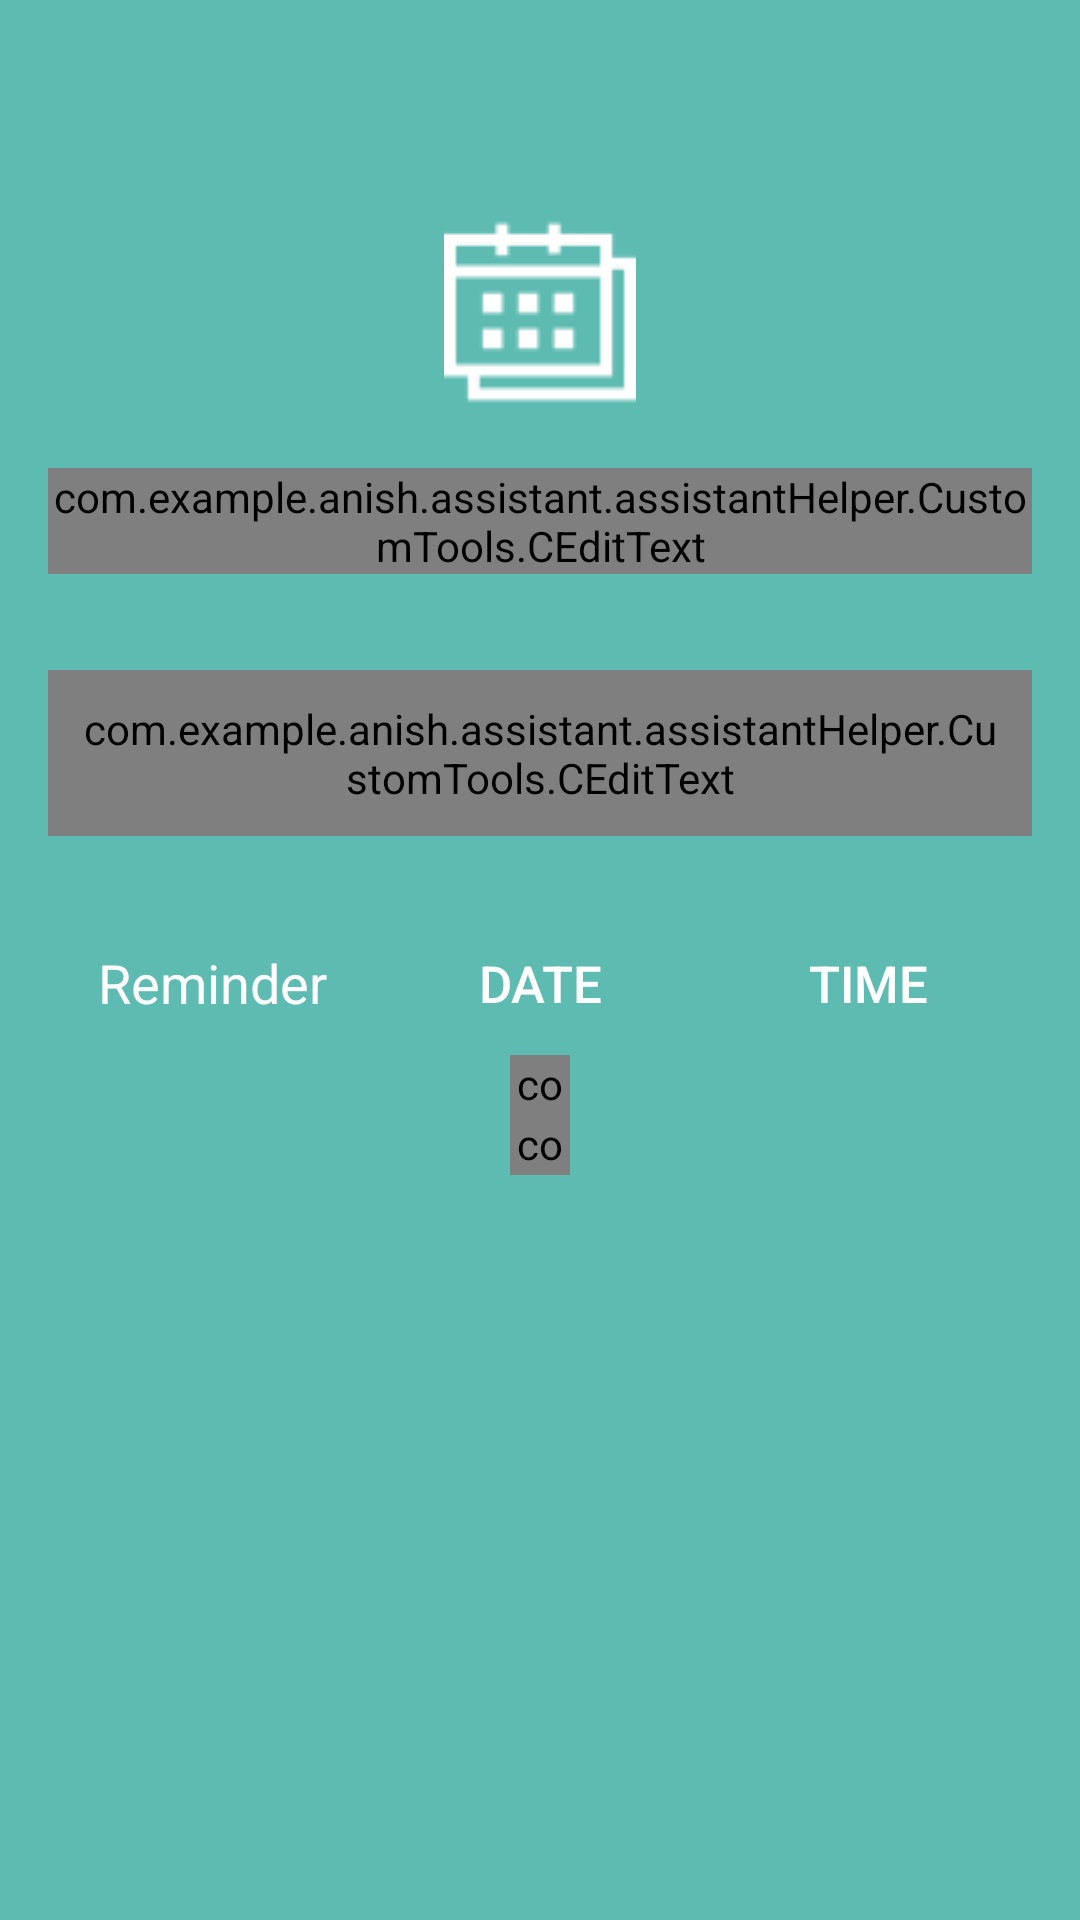

Named icons in this screenshot (1080 × 1920) and their centers, point (x, y):
calendar: point (540, 312)
